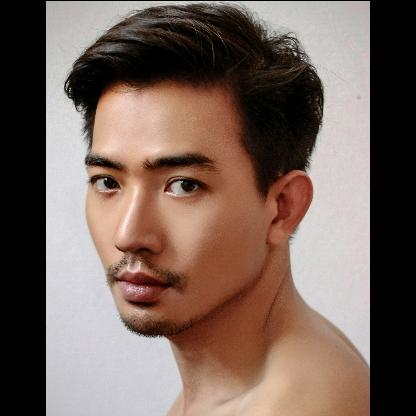Male: (82, 84, 312, 338)
